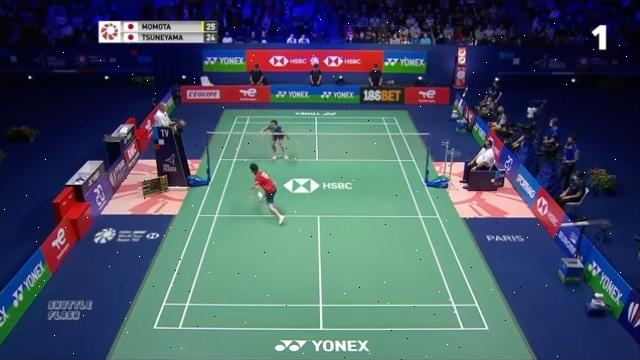Shuttlecock: (234, 145, 242, 153)
